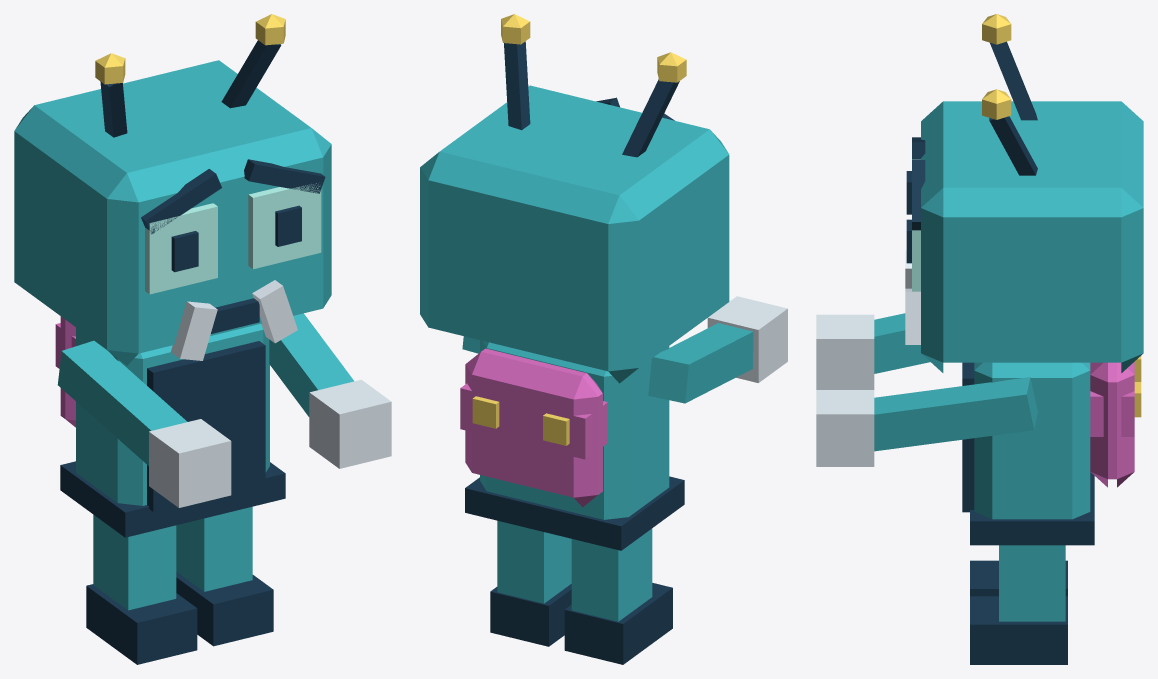
The model's file is grunt_r12.glb.
3 renders of one model, left to right at view 1: azimuth 30°, elevation 25°; view 2: azimuth 150°, elevation 25°; view 3: azimuth 270°, elevation 25°, orthographic. The views are drawn at different scales.
Parts seen in each view (by area): view 1: grunt_r12_mesh; view 2: grunt_r12_mesh; view 3: grunt_r12_mesh.
Boxes of the visible parts, bbox=[...] form: grunt_r12_mesh: bbox=[14, 14, 391, 664]; grunt_r12_mesh: bbox=[420, 14, 787, 664]; grunt_r12_mesh: bbox=[816, 14, 1143, 664].
Bounding box in the file's own units: 0.5933 × 1.5 × 0.7656.
Materials: 1 (1 with a texture image).
